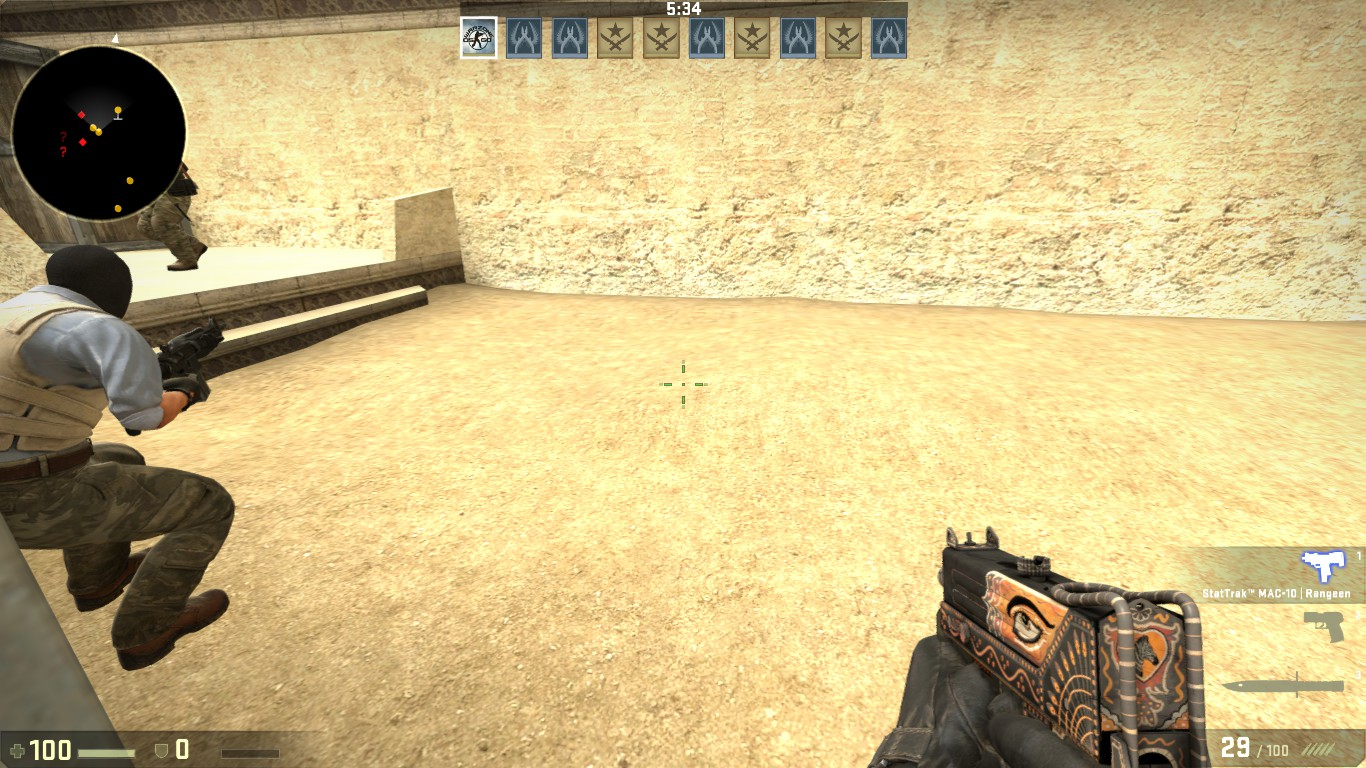t: (1, 240, 209, 642)
th: (36, 240, 146, 331)
